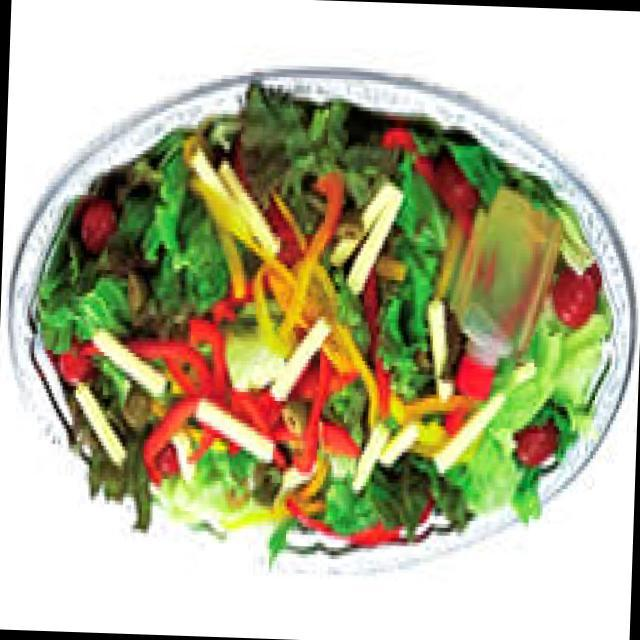Green Salad: (42, 114, 621, 545)
